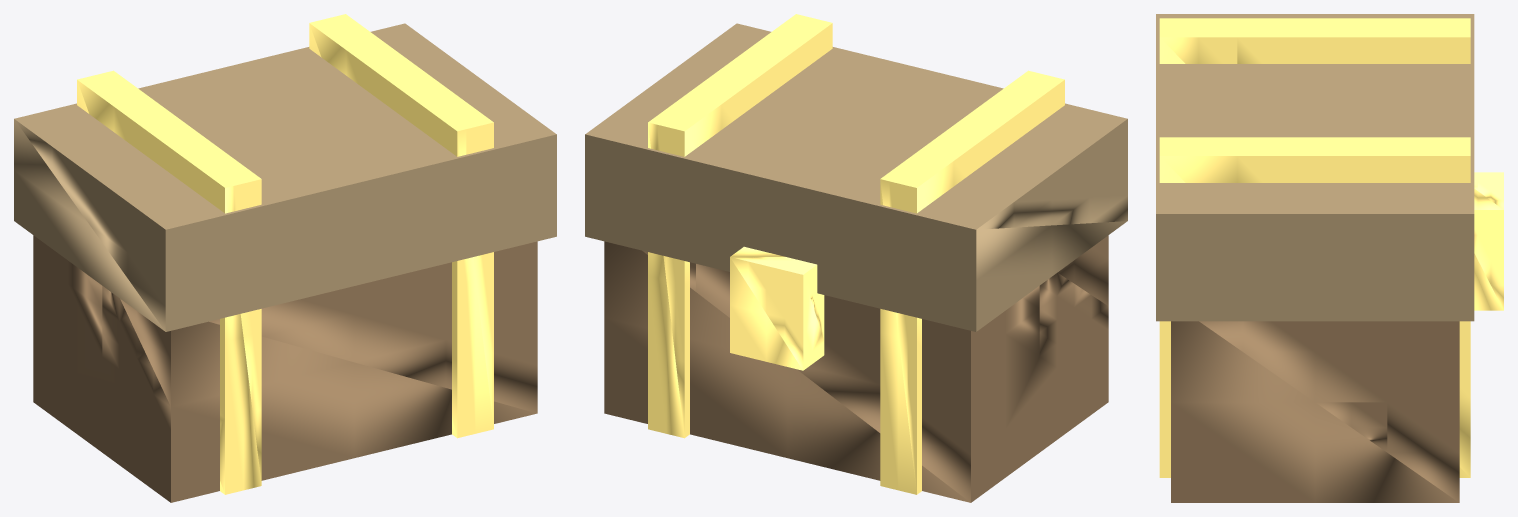
File: chest.glb
3 renders of one model, left to right at view 1: azimuth 30°, elevation 25°; view 2: azimuth 150°, elevation 25°; view 3: azimuth 270°, elevation 25°, orthographic. The views are drawn at different scales.
Parts seen in each view (by area): view 1: ChestBody; view 2: ChestBody; view 3: ChestBody.
Boxes of the visible parts, x1,y1,x2,y2 form: ChestBody: [14, 14, 556, 502]; ChestBody: [585, 14, 1127, 502]; ChestBody: [1156, 14, 1503, 502].
Bounding box in the file's own units: 1.28 × 0.96 × 0.94.
